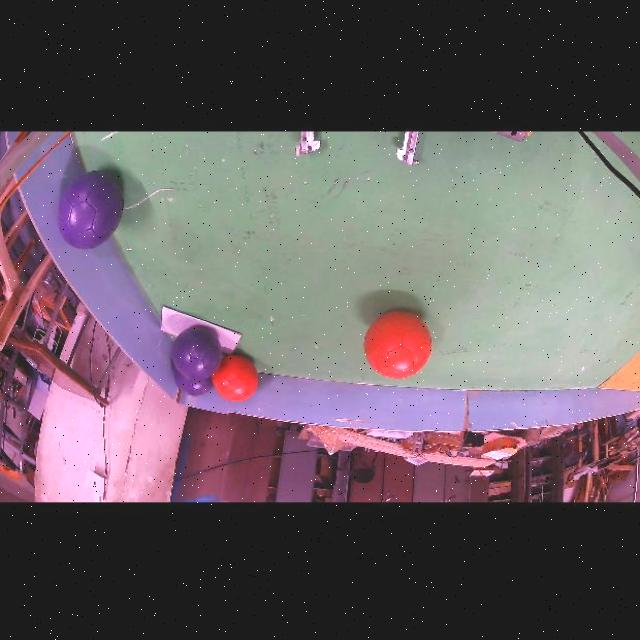P: (58, 171, 123, 249), (171, 325, 223, 380), (174, 367, 214, 395)
R: (363, 311, 432, 378), (212, 355, 259, 402)
